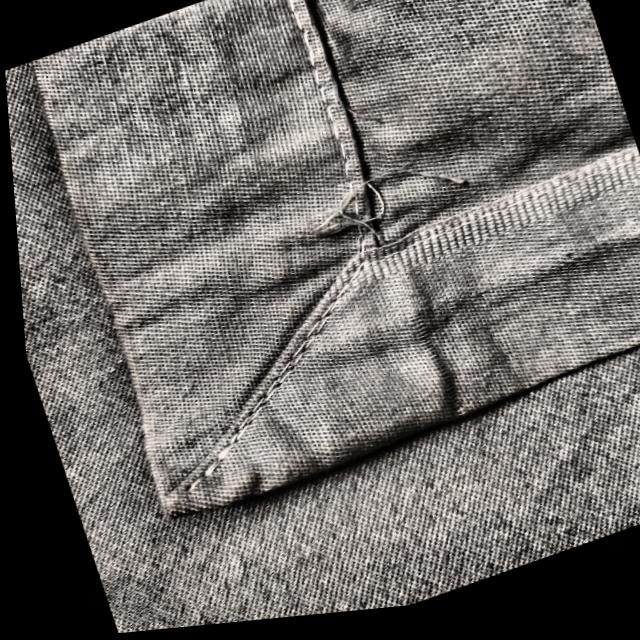Stitch: (275, 133, 493, 301)
